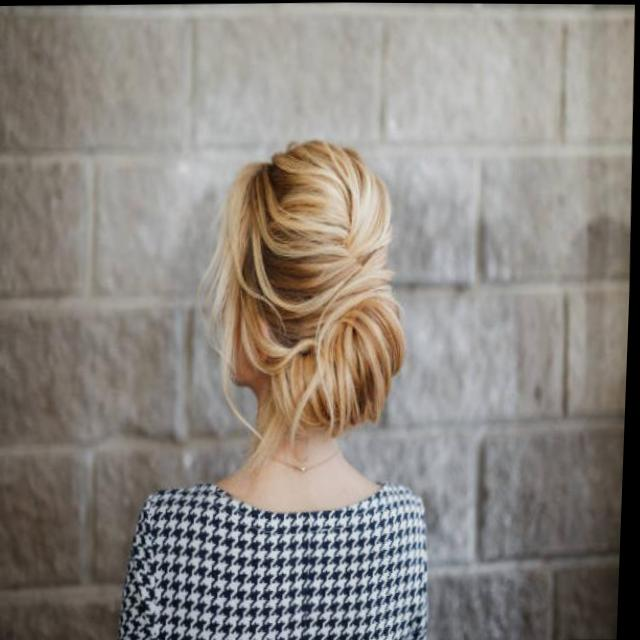no helmet: (219, 125, 409, 473)
